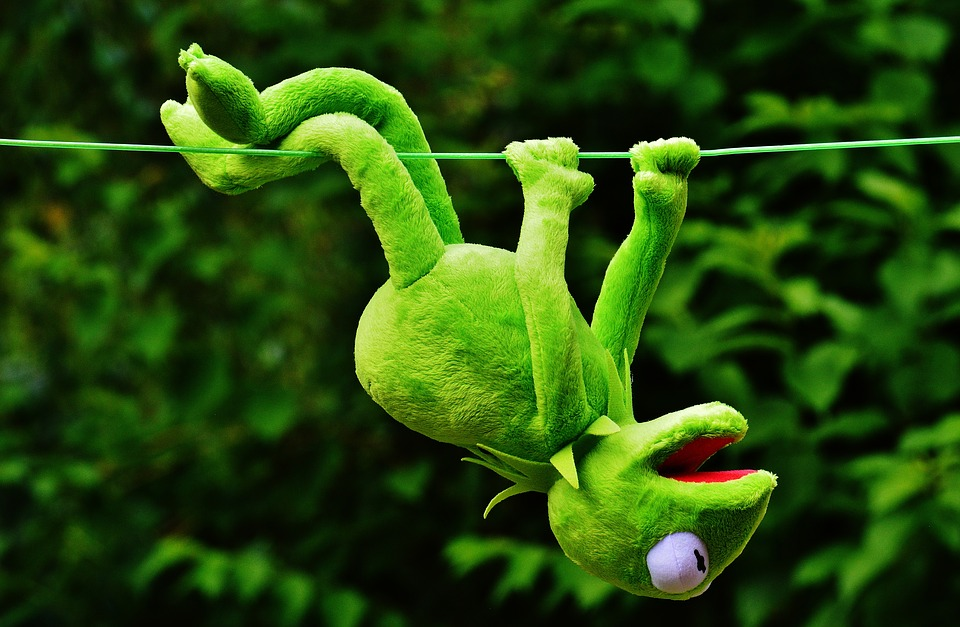kermit: (548, 395, 786, 610)
